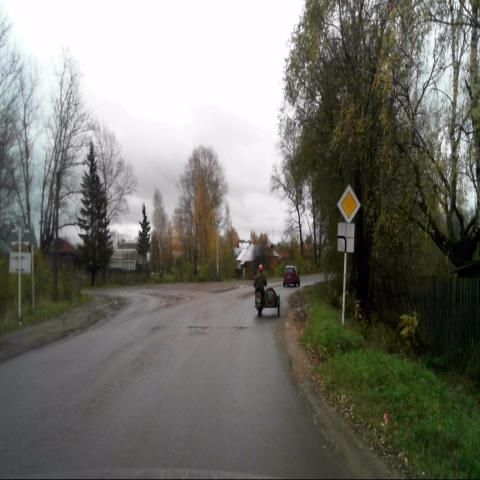2_1: (336, 183, 360, 222)
8_13: (336, 222, 355, 252)
